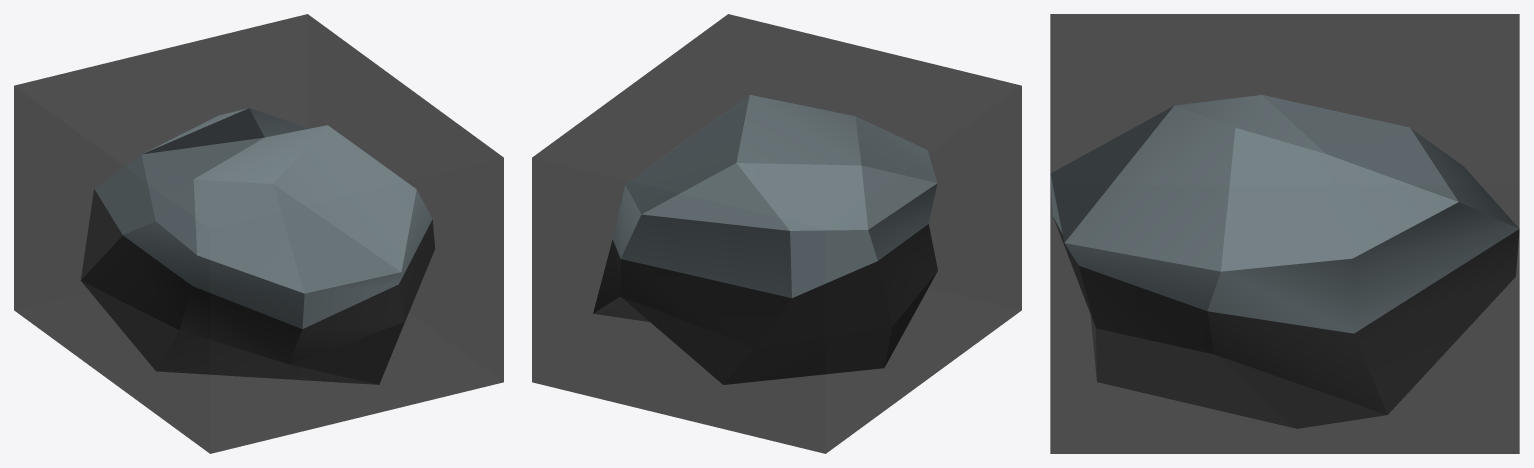
The model's file is Stone_3.fbx.
The picture shows the model from 3 angles, left to right: view 1: azimuth 30°, elevation 25°; view 2: azimuth 150°, elevation 25°; view 3: azimuth 270°, elevation 25°; orthographic projection. The views are drawn at different scales.
Visible parts, largest first — view 1: Stone_3_BBox, Stone_3; view 2: Stone_3_BBox, Stone_3; view 3: Stone_3_BBox, Stone_3.
Part boxes in pixels (x1,y1,x2,y2): Stone_3_BBox: [14, 14, 503, 453]; Stone_3: [81, 108, 435, 384]; Stone_3_BBox: [532, 14, 1021, 453]; Stone_3: [593, 95, 937, 384]; Stone_3_BBox: [1050, 14, 1519, 453]; Stone_3: [1050, 95, 1519, 428].
Bounding box in the file's own units: 1.93 × 1.41 × 2.23.
2 materials, 1 textured.
